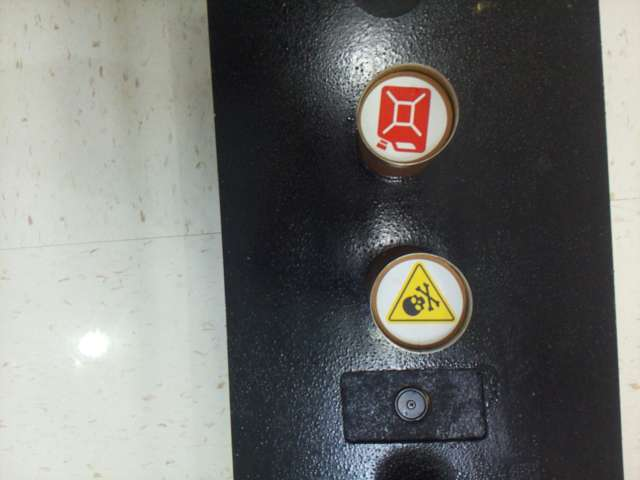gasoline: (363, 77, 447, 162)
toxic_fluid: (377, 259, 463, 346)
